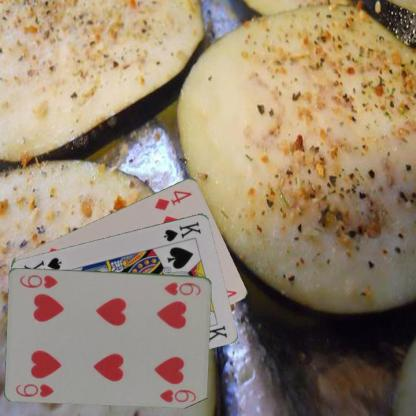4d: (152, 187, 194, 212)
6h: (13, 380, 56, 398), (162, 280, 202, 297)
Ks: (160, 218, 202, 243)
